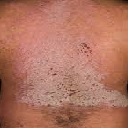Psoriasis: (20, 40, 125, 110)
